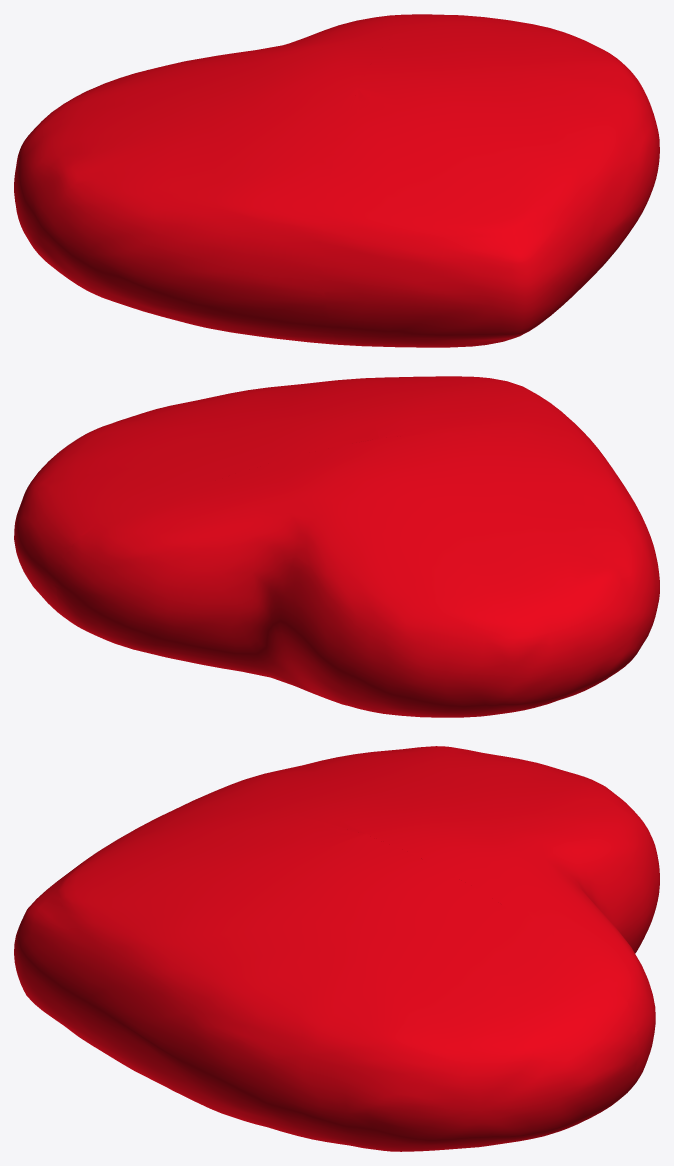
The model's file is Heart.fbx.
3 views of the same model, one above another, from view 1: azimuth 30°, elevation 25°; view 2: azimuth 150°, elevation 25°; view 3: azimuth 270°, elevation 25° (orthographic). The views are drawn at different scales.
Visible parts, largest first — view 1: Heart1, Heart, Heart2; view 2: Heart2, Heart, Heart1; view 3: Heart1, Heart, Heart2.
Part boxes in pixels (bbox=[...]): Heart1: bbox=[322, 14, 659, 347]; Heart: bbox=[21, 14, 659, 347]; Heart2: bbox=[14, 14, 416, 344]; Heart2: bbox=[56, 432, 659, 708]; Heart: bbox=[29, 378, 659, 717]; Heart1: bbox=[14, 376, 601, 621]; Heart1: bbox=[14, 806, 638, 1151]; Heart: bbox=[14, 795, 659, 1151]; Heart2: bbox=[174, 746, 659, 1096].
Bounding box in the file's own units: 316 × 104 × 270.
